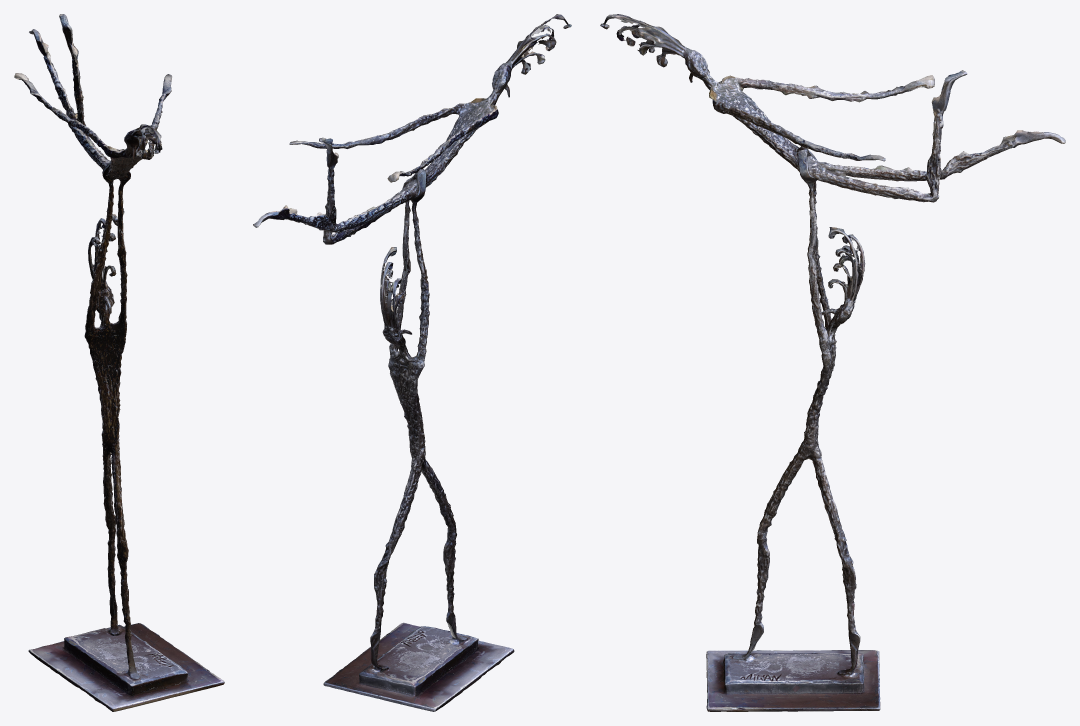
File: lift-dancers.glb
The picture shows the model from 3 angles, left to right: view 1: azimuth 30°, elevation 25°; view 2: azimuth 150°, elevation 25°; view 3: azimuth 270°, elevation 25°; orthographic projection. The views are drawn at different scales.
Parts seen in each view (by area): view 1: model.001; view 2: model.001; view 3: model.001.
Part boxes in pixels (<box>): model.001: <box>14,14,224,711</box>; model.001: <box>253,14,571,711</box>; model.001: <box>600,14,1065,711</box>.
Bounding box in the file's own units: 0.5103 × 1.97 × 1.3.
1 material, 1 textured.
